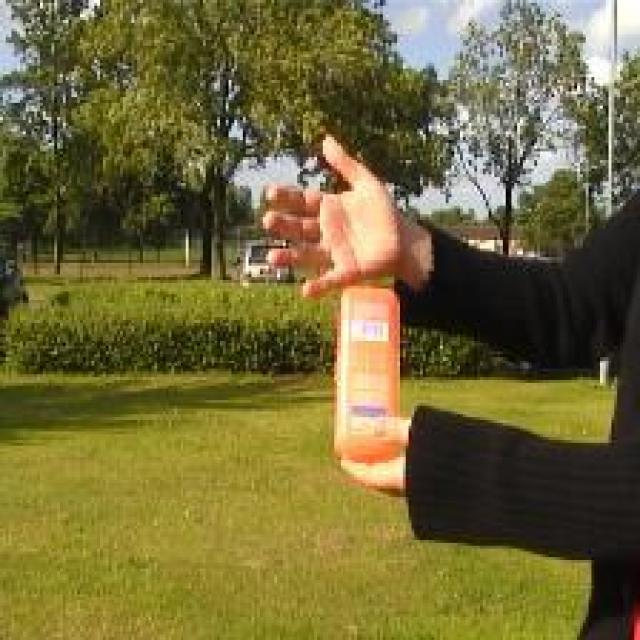other: (319, 275, 419, 468)
